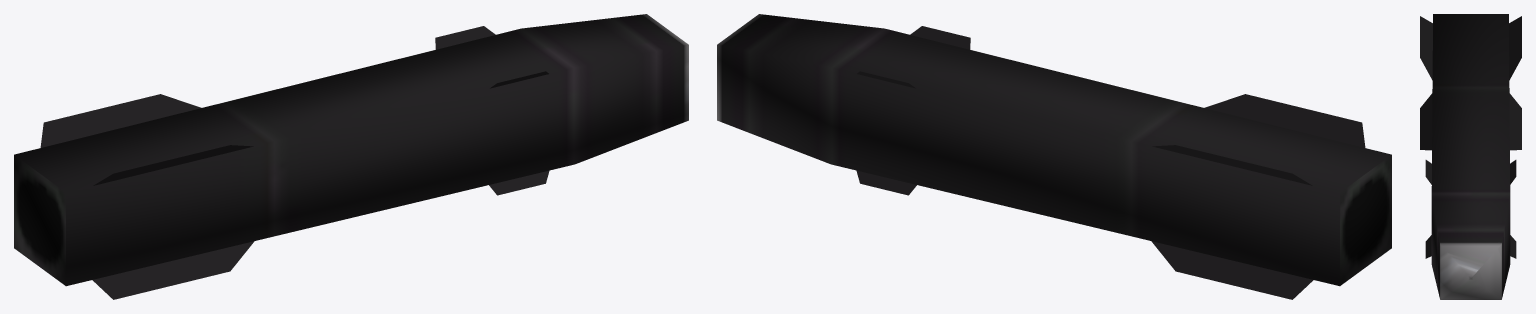
The model's file is projectile_hellfire_missile_LOD1.obj.
3 renders of one model, left to right at view 1: azimuth 30°, elevation 25°; view 2: azimuth 150°, elevation 25°; view 3: azimuth 270°, elevation 25°, orthographic. The views are drawn at different scales.
Visible parts, largest first — view 1: mtl_hellfire_missile; view 2: mtl_hellfire_missile; view 3: mtl_hellfire_missile.
Boxes of the visible parts, x1,y1,x2,y2 form: mtl_hellfire_missile: [14, 14, 688, 299]; mtl_hellfire_missile: [717, 14, 1391, 299]; mtl_hellfire_missile: [1420, 14, 1521, 299].
Bounding box in the file's own units: 164 × 30.8 × 30.8.
